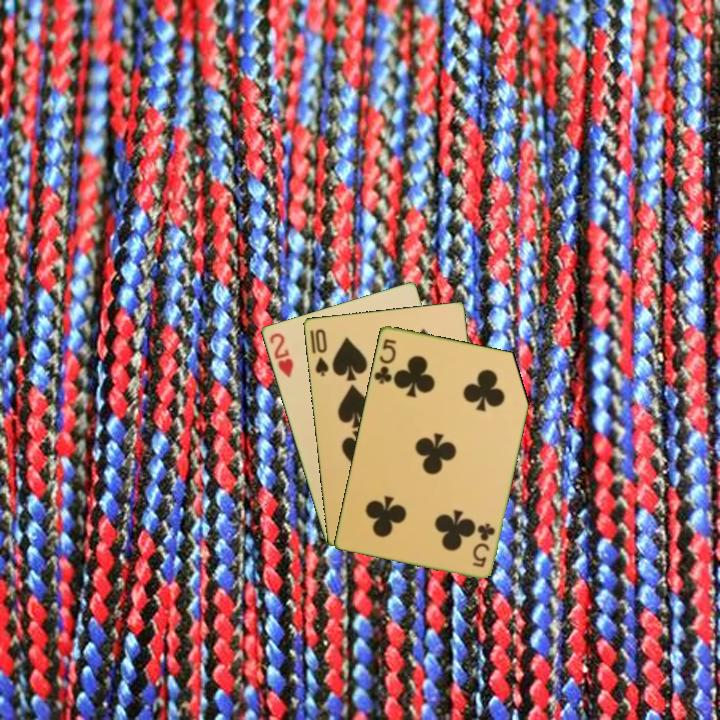10s: (311, 325, 331, 379)
2h: (265, 329, 296, 381)
5c: (370, 335, 399, 387), (469, 519, 498, 570)
